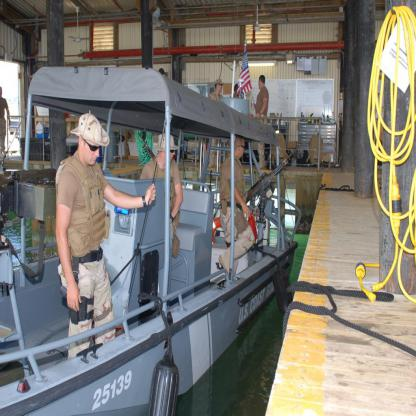face: (83, 137, 100, 166), (166, 147, 176, 164), (239, 141, 246, 156), (218, 82, 224, 93), (237, 87, 240, 93)
